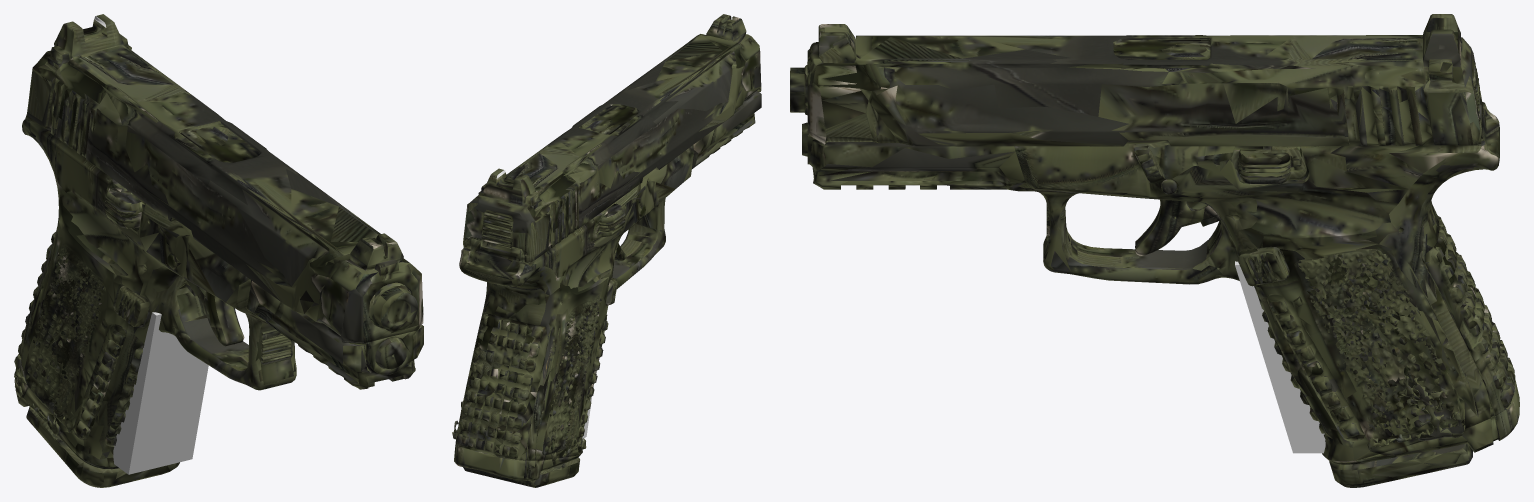
The picture shows the model from 3 angles, left to right: view 1: azimuth 30°, elevation 25°; view 2: azimuth 150°, elevation 25°; view 3: azimuth 270°, elevation 25°; orthographic projection. The views are drawn at different scales.
Parts seen in each view (by area): view 1: Body, Bolt, Magazine; view 2: Body, Bolt, Magazine; view 3: Body, Bolt, Magazine.
Part boxes in pixels (x1,y1,x2,y2): Body: [14, 115, 423, 468]; Bolt: [26, 14, 423, 342]; Magazine: [15, 312, 208, 487]; Body: [452, 90, 761, 461]; Bolt: [463, 14, 761, 262]; Magazine: [454, 386, 593, 487]; Body: [802, 102, 1515, 462]; Bolt: [790, 14, 1482, 146]; Magazine: [1235, 261, 1519, 487].
Size of the model in its own units: 0.0707 by 0.2118 by 0.3154.
